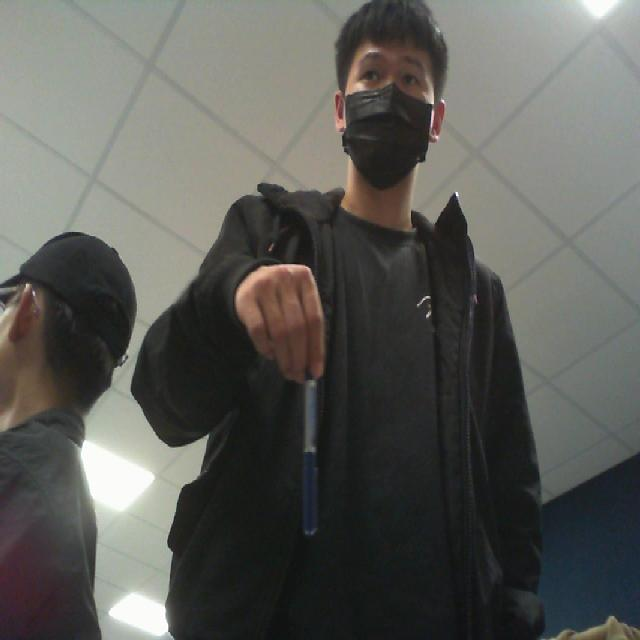Pen: (288, 360, 337, 547)
